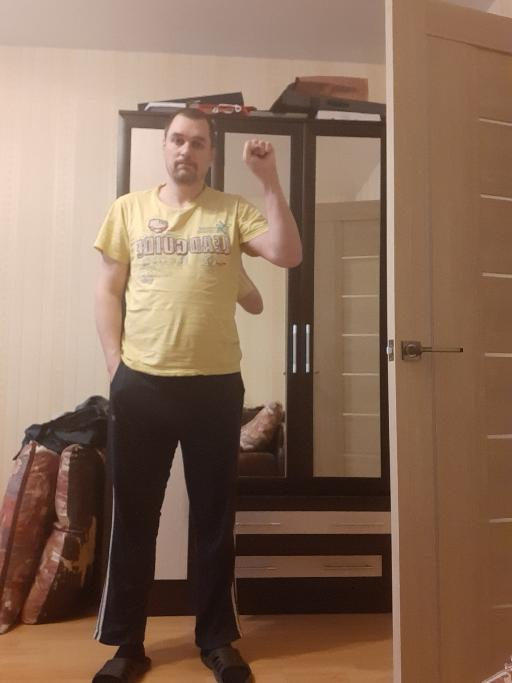fist: (240, 137, 278, 176)
